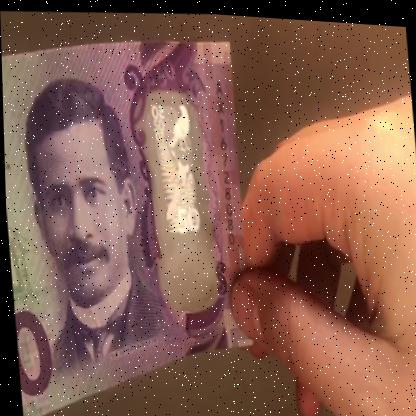50F: (145, 94, 209, 281)
